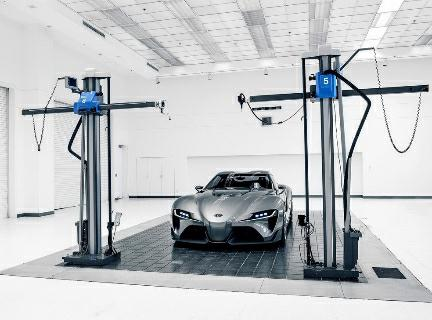丰田-FT-1: (167, 169, 297, 260)
